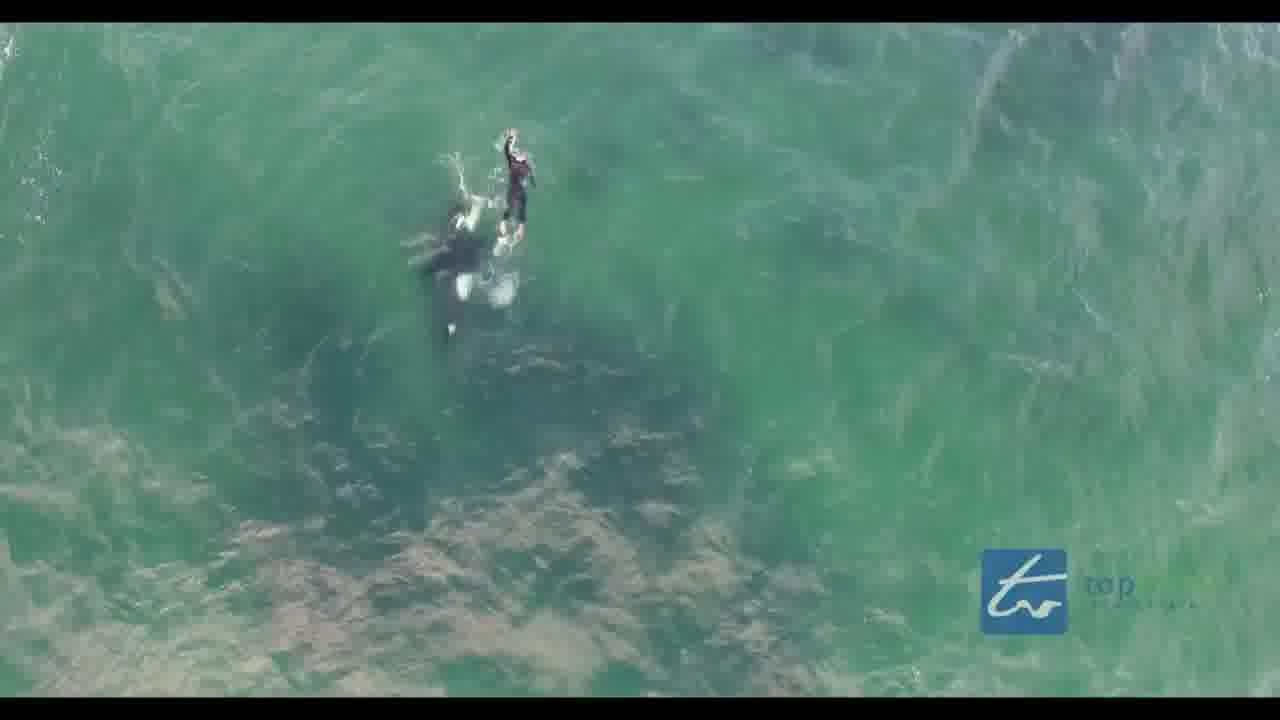human: (494, 133, 538, 225)
